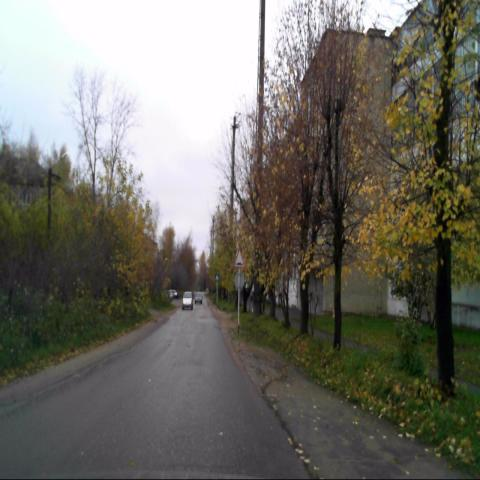1_17: (234, 250, 244, 268)
